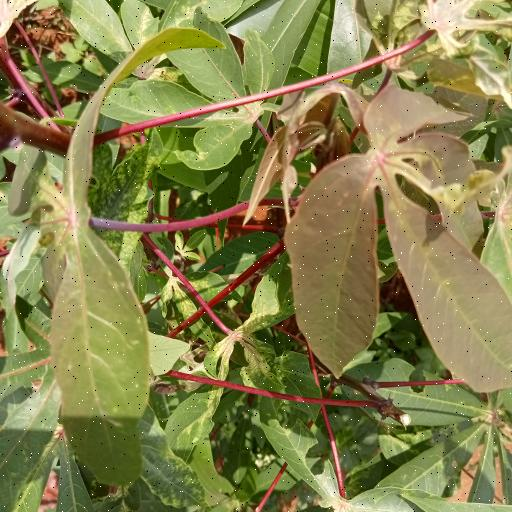Cassava_Healthy: (265, 84, 512, 391)
